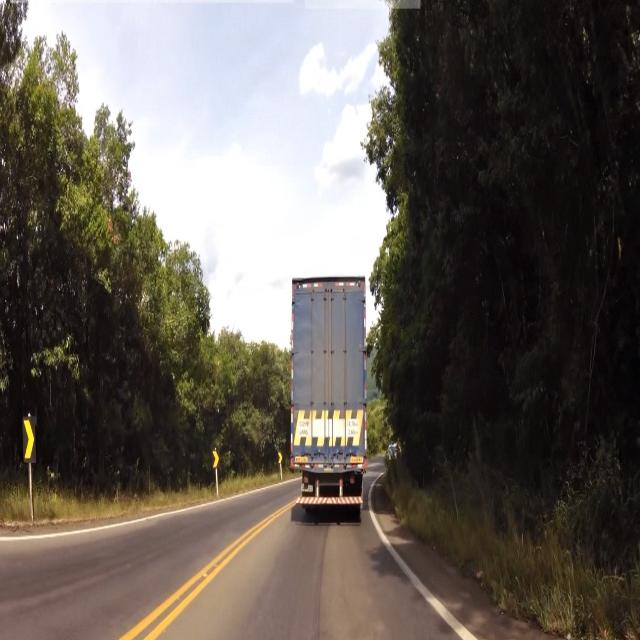Del: (20, 414, 36, 464)
E-5: (210, 448, 220, 468)
